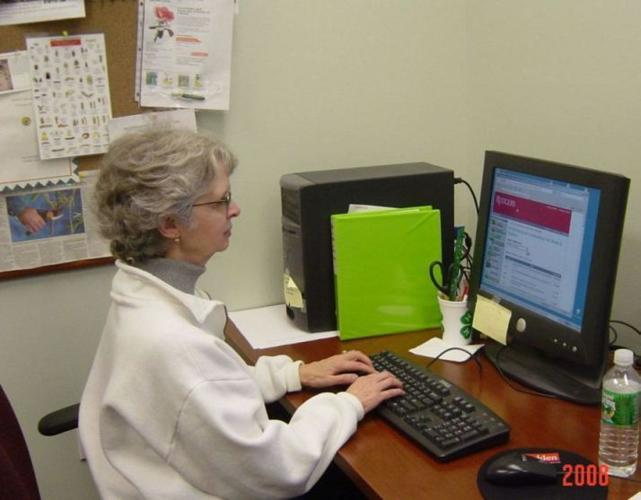person: (81, 122, 407, 500)
